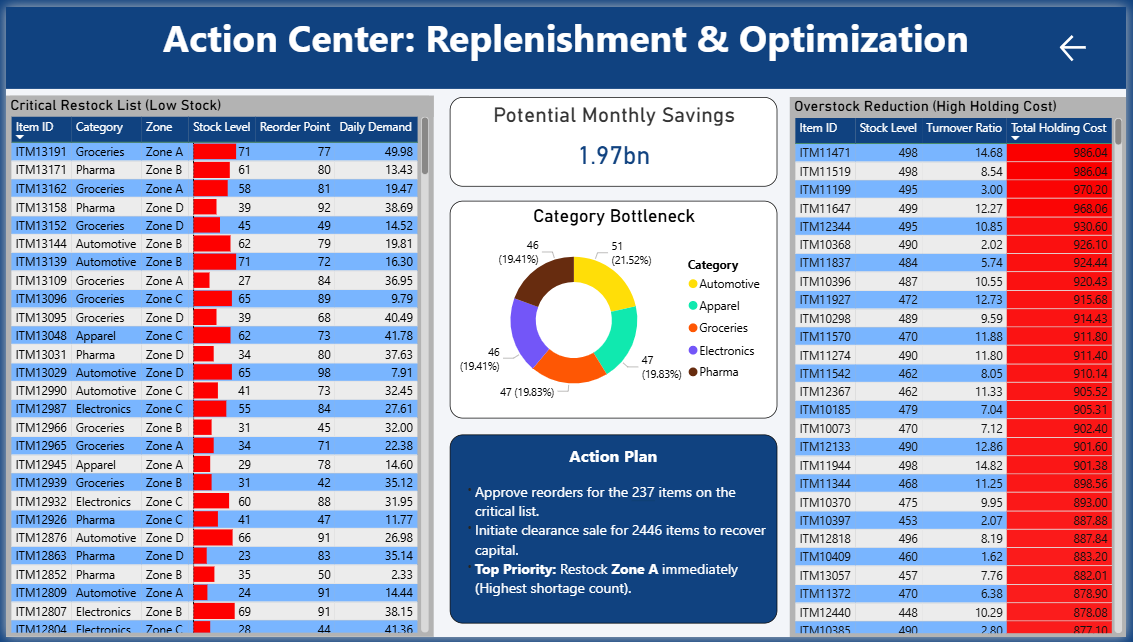

The dashboard page shown, as its layout file describes it:
{"tool":"powerbi","page":{"name":"Page 2","canvas":[1280,720],"ordinal":1},"visuals":[{"type":"tableEx","title":"Critical Restock List (Low Stock)","fields":{"Values":["logistics_dataset.item_id","logistics_dataset.Category","logistics_dataset.Zone","logistics_dataset.stock_level","logistics_dataset.reorder_point","Avg(logistics_dataset.daily_demand)"]},"box":[0,101.4,488.6,618.6],"z":0},{"type":"tableEx","title":"Overstock Reduction (High Holding Cost)","fields":{"Values":["logistics_dataset.item_id","Sum(logistics_dataset.stock_level)","Avg(logistics_dataset.turnover_ratio)","KeyMeasures.Total Holding Cost"]},"box":[895,102.5,385,617.5],"z":1000},{"type":"card","title":"Potential Monthly Savings","fields":{"Values":["KeyMeasures.Total Holding Cost"]},"box":[506.6,102.5,374.3,102.5],"z":2000},{"type":"donutChart","title":"Category Bottleneck","fields":{"Category":["logistics_dataset.Category"],"Y":["CountNonNull(logistics_dataset.item_id)"]},"box":[506.6,221.7,374.3,249.1],"z":3000},{"type":"textbox","box":[506.6,488.7,374.3,215.8],"z":5000},{"type":"textbox","box":[0,0,1280,93.3],"z":6000},{"type":"actionButton","box":[1200,27.1,48.6,40],"z":7000}]}

Visuals, with their boxes in screenshot pixels (x1, y1, x2, y2), scaled from the page's 1280x720 canvas onto the 1133x642 screenshot:
"Critical Restock List (Low Stock)" tableEx: <region>0, 90, 432, 641</region>
"Overstock Reduction (High Holding Cost)" tableEx: <region>792, 91, 1132, 641</region>
"Potential Monthly Savings" card: <region>448, 91, 780, 183</region>
"Category Bottleneck" donutChart: <region>448, 198, 780, 420</region>
textbox: <region>448, 436, 780, 628</region>
textbox: <region>0, 0, 1132, 83</region>
actionButton: <region>1062, 24, 1105, 60</region>
